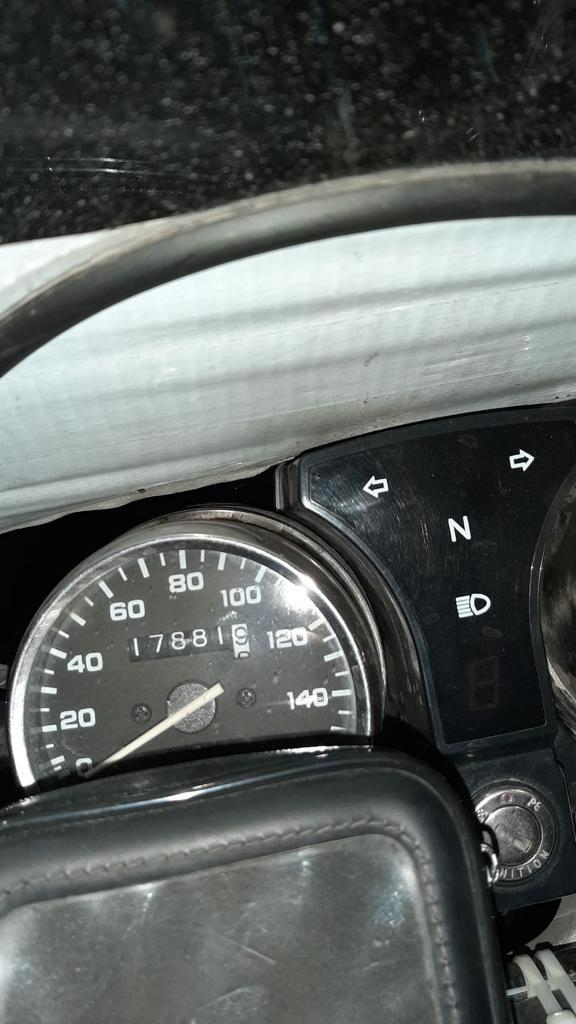1: (130, 634, 141, 658), (215, 623, 225, 646)
7: (147, 632, 164, 654)
8: (170, 630, 187, 651), (191, 627, 207, 648)
9: (232, 625, 248, 646)
odometer: (124, 620, 252, 664)
